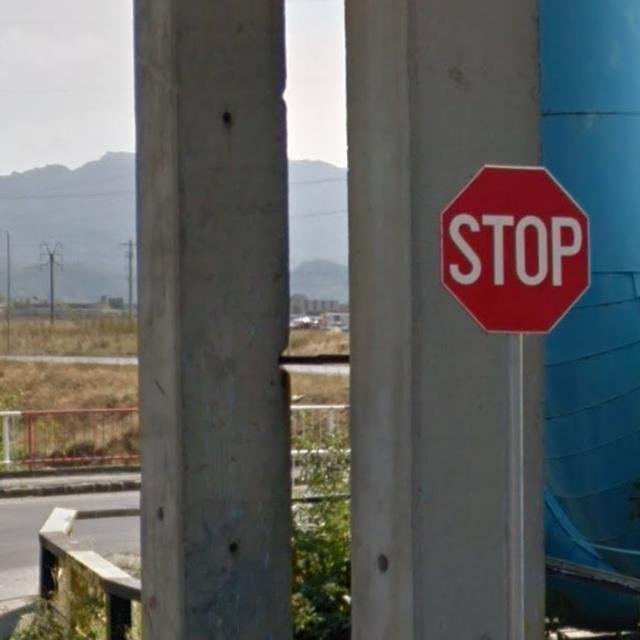prio_stop: (442, 166, 590, 336)
